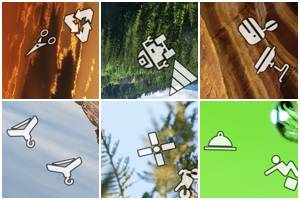thing: (251, 46, 293, 87), (257, 151, 299, 192), (238, 12, 281, 48), (3, 111, 41, 151), (137, 32, 174, 72), (139, 130, 177, 168), (43, 156, 85, 188), (63, 8, 95, 46), (168, 59, 198, 97), (25, 28, 58, 59), (204, 126, 239, 155), (171, 165, 198, 199)
